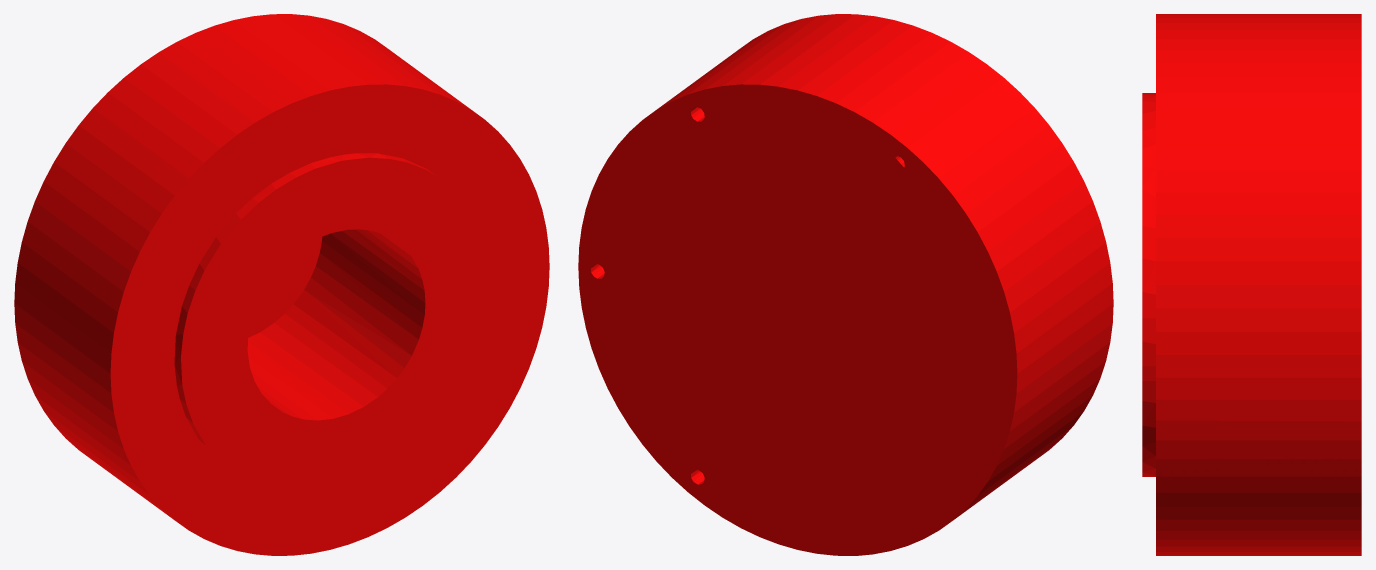
Rendered from legs_1_left_leg_1_x6_1_outer_1.glb.
The picture shows the model from 3 angles, left to right: view 1: azimuth 30°, elevation 25°; view 2: azimuth 150°, elevation 25°; view 3: azimuth 270°, elevation 25°; orthographic projection. The views are drawn at different scales.
Visible parts, largest first — view 1: legs_1_left_leg_1_x6_1_outer_1.obj; view 2: legs_1_left_leg_1_x6_1_outer_1.obj; view 3: legs_1_left_leg_1_x6_1_outer_1.obj.
Boxes of the visible parts, x1,y1,x2,y2 form: legs_1_left_leg_1_x6_1_outer_1.obj: (14, 14, 549, 555); legs_1_left_leg_1_x6_1_outer_1.obj: (578, 14, 1113, 555); legs_1_left_leg_1_x6_1_outer_1.obj: (1142, 14, 1361, 555).
Bounding box in the file's own units: 0.079 × 0.079 × 0.032.
